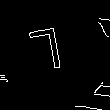L_S: (36, 27, 74, 83)
